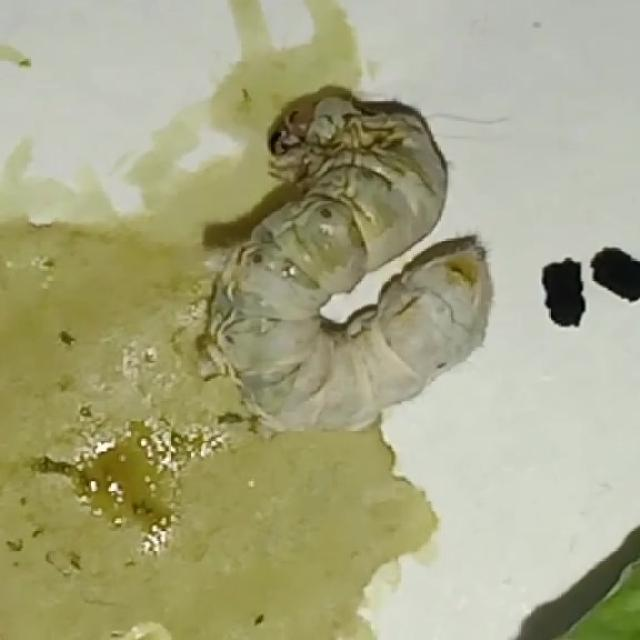Grasserie: (201, 77, 499, 446)
